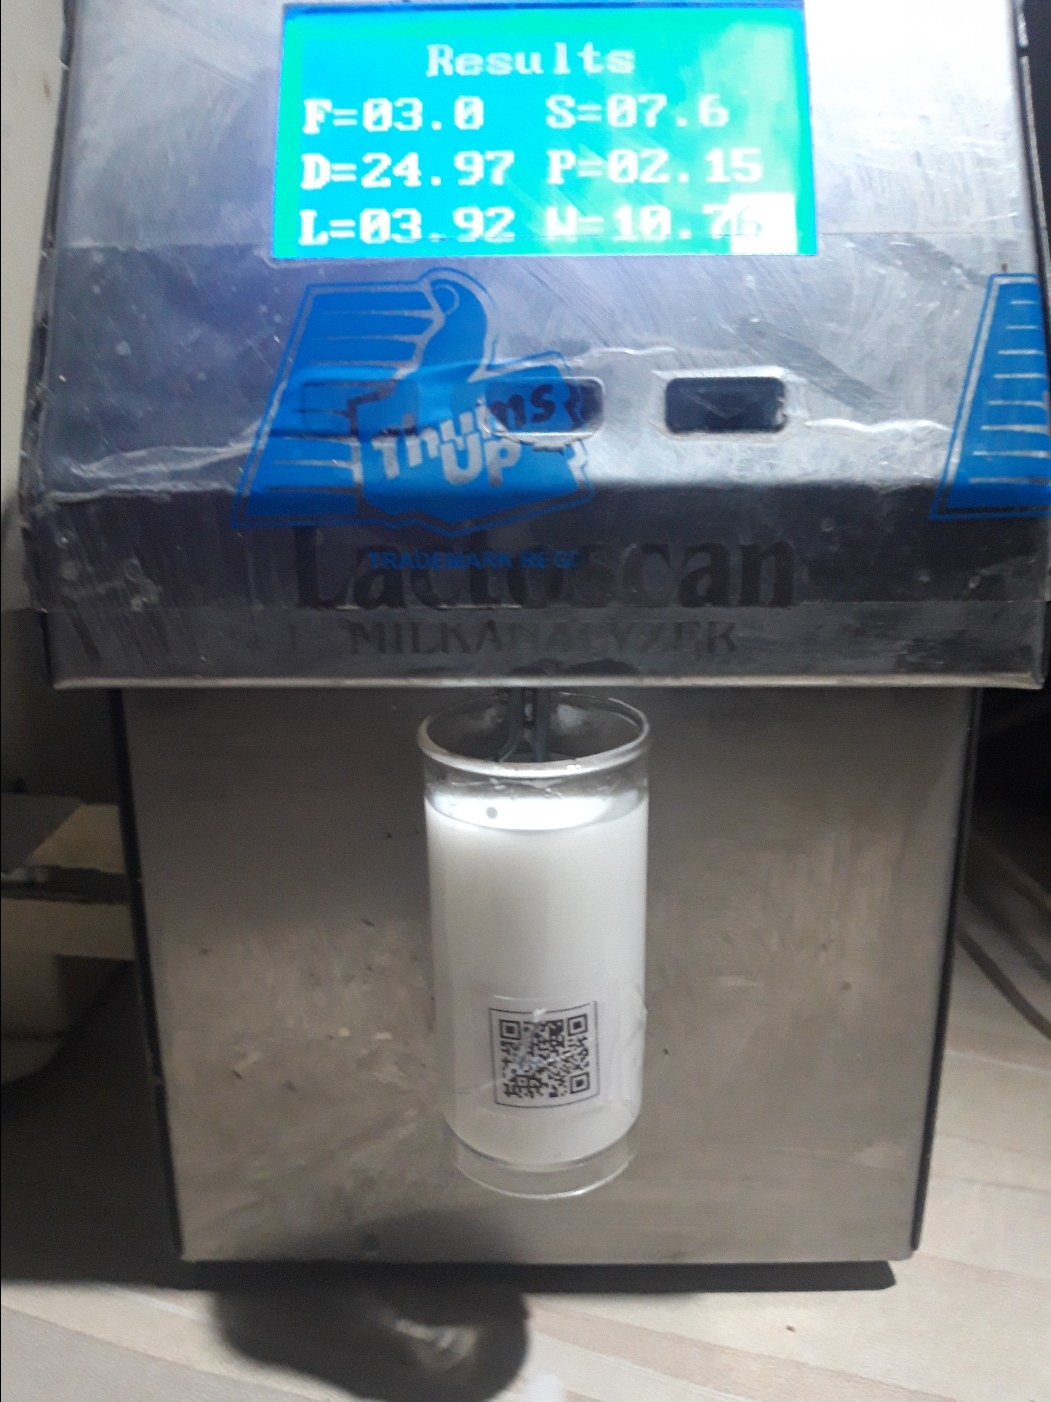lcd: (273, 2, 818, 273)
qr: (484, 1005, 611, 1115)
